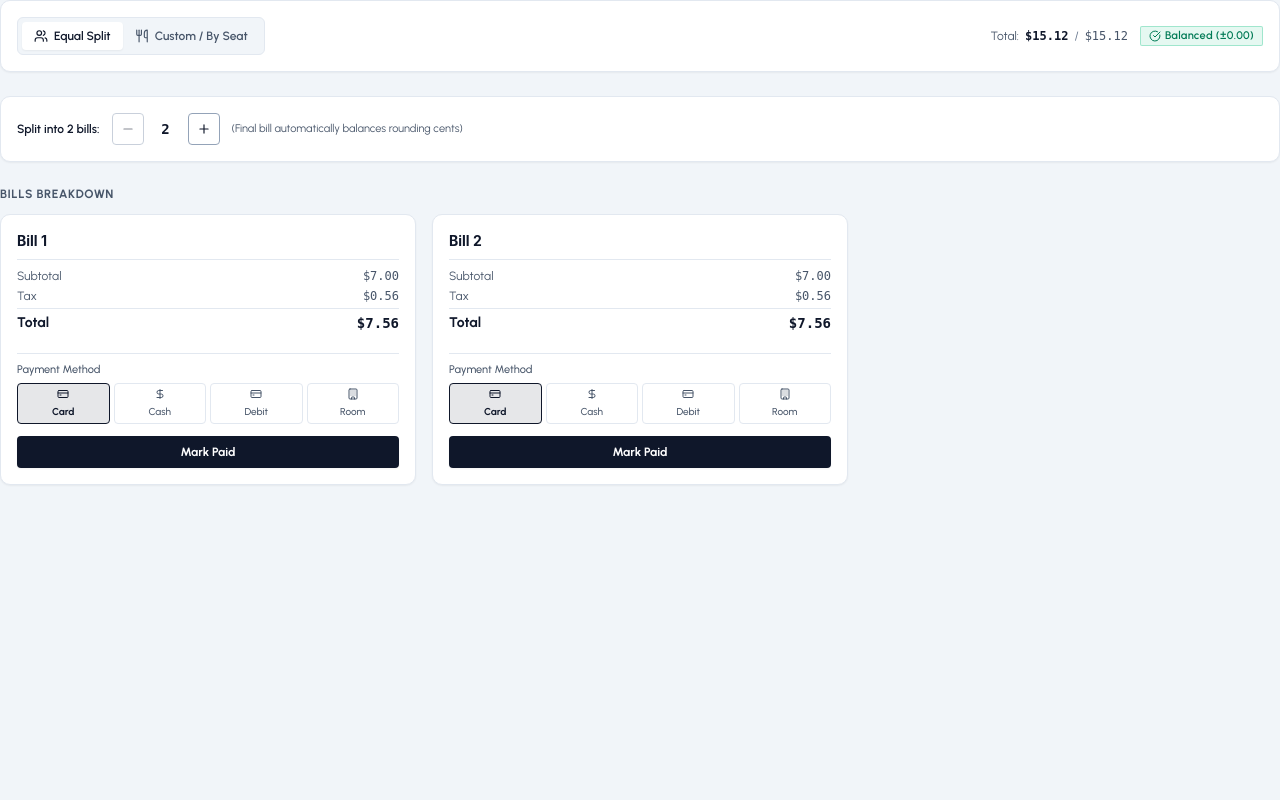
Scenario: SplitBillAssignment › settles a bill with Cash tender calculation and opens receipt modal
// Select cash for Bill 1
What coordinates should you click on to do the following:
click the button "Cash" below "Bill 1"
I would click on:
 (160, 403)
Its box is left=114, top=382, right=206, bottom=424.
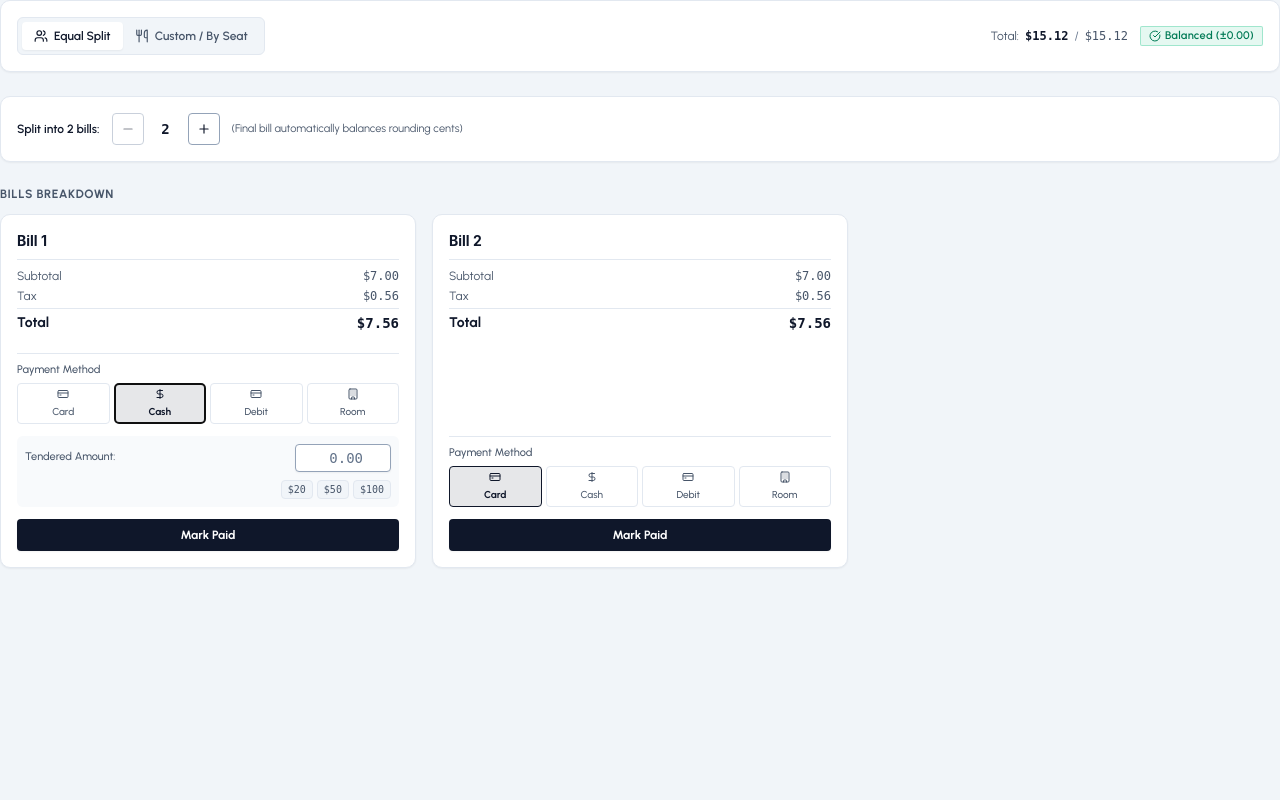
// Click quick $20 bill button
What coordinates should you click on to do the following:
click the button "$20"
I would click on:
 (297, 489)
Its box is left=281, top=480, right=313, bottom=499.
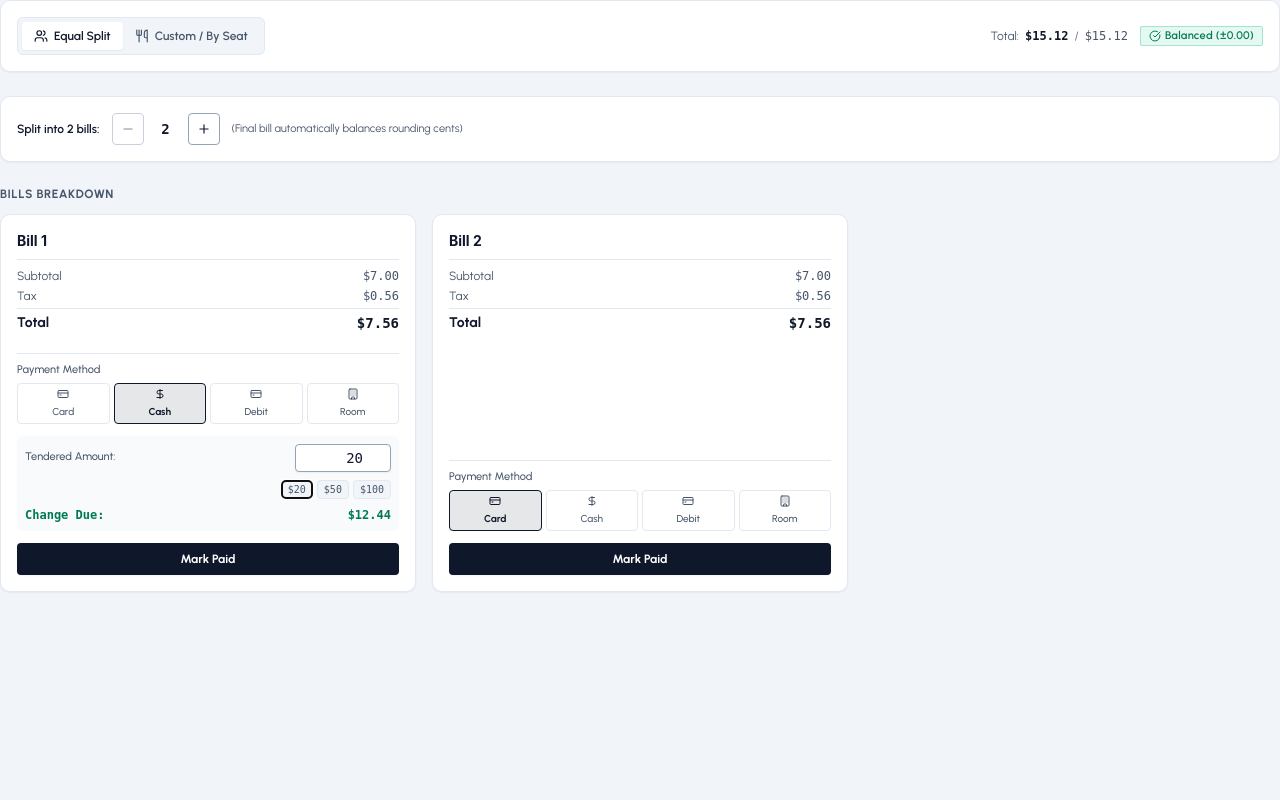
expect the text "Change Due:" is shown: met, box left=25, top=507, right=104, bottom=523
// Mark Bill 1 Paid
What coordinates should you click on to do the following:
click the button "Mark Paid" below "Change Due"
I would click on:
 (208, 559)
Its box is left=17, top=543, right=399, bottom=575.
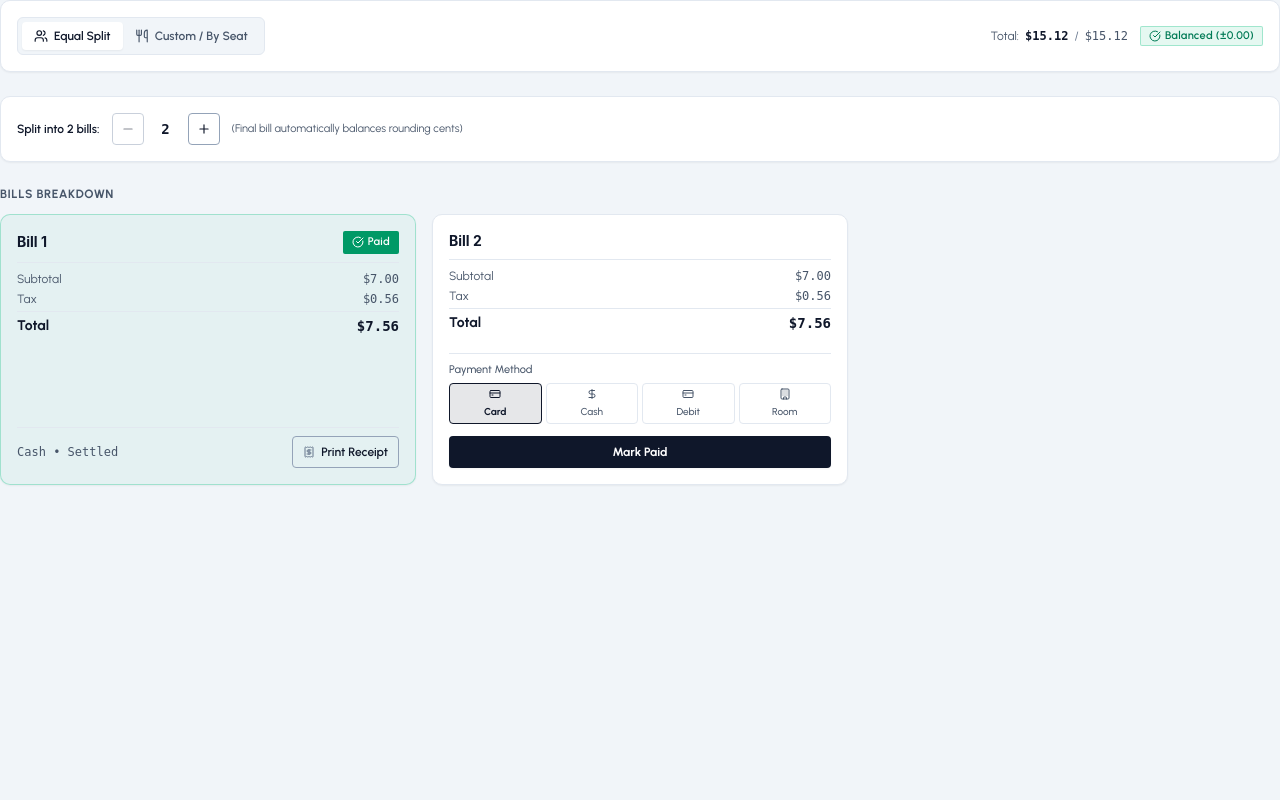
expect the button "Print Receipt" is shown: met
// Open receipt modal
What coordinates should you click on to do the following:
click the button "Print Receipt"
I would click on:
 (346, 452)
Its box is left=292, top=436, right=399, bottom=468.
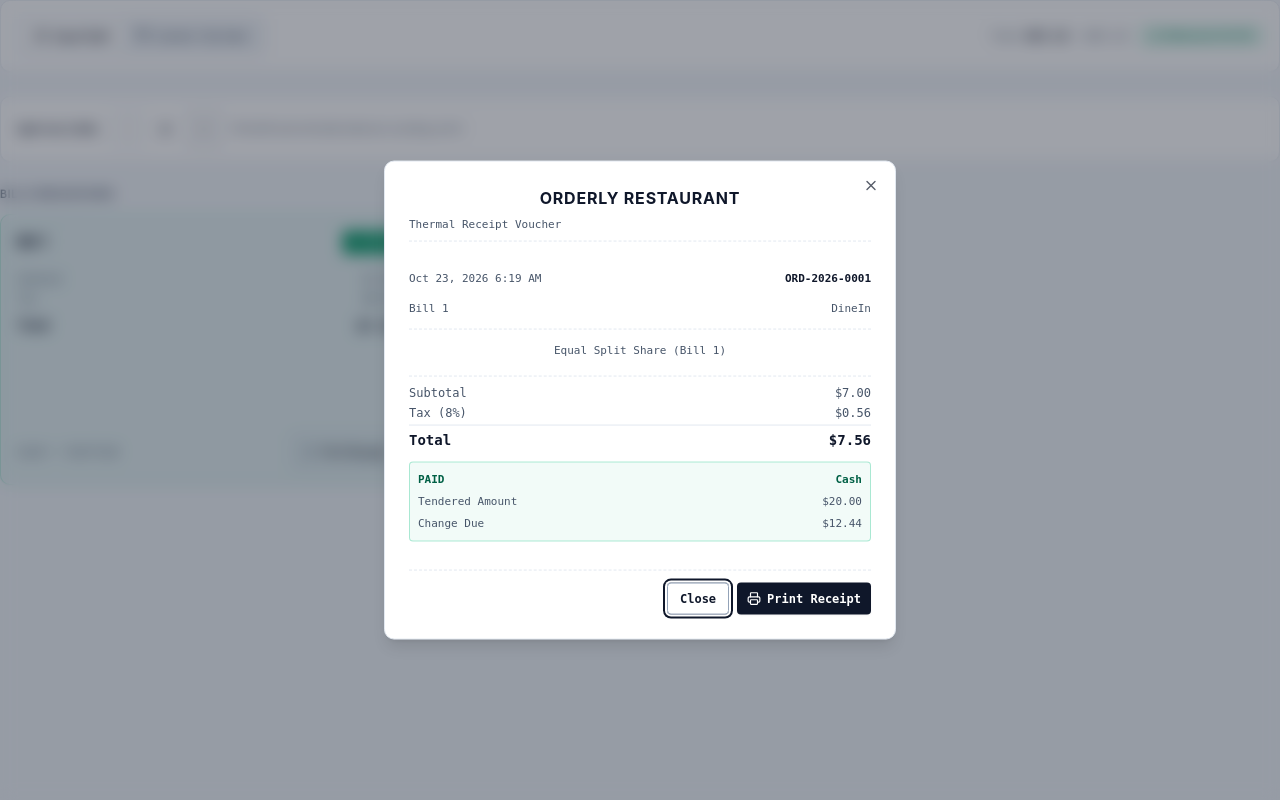
expect the heading "ORDERLY RESTAURANT" is shown: met, box left=540, top=188, right=740, bottom=208
expect the text "Thermal Receipt Voucher" is shown: met, box left=409, top=218, right=561, bottom=230
